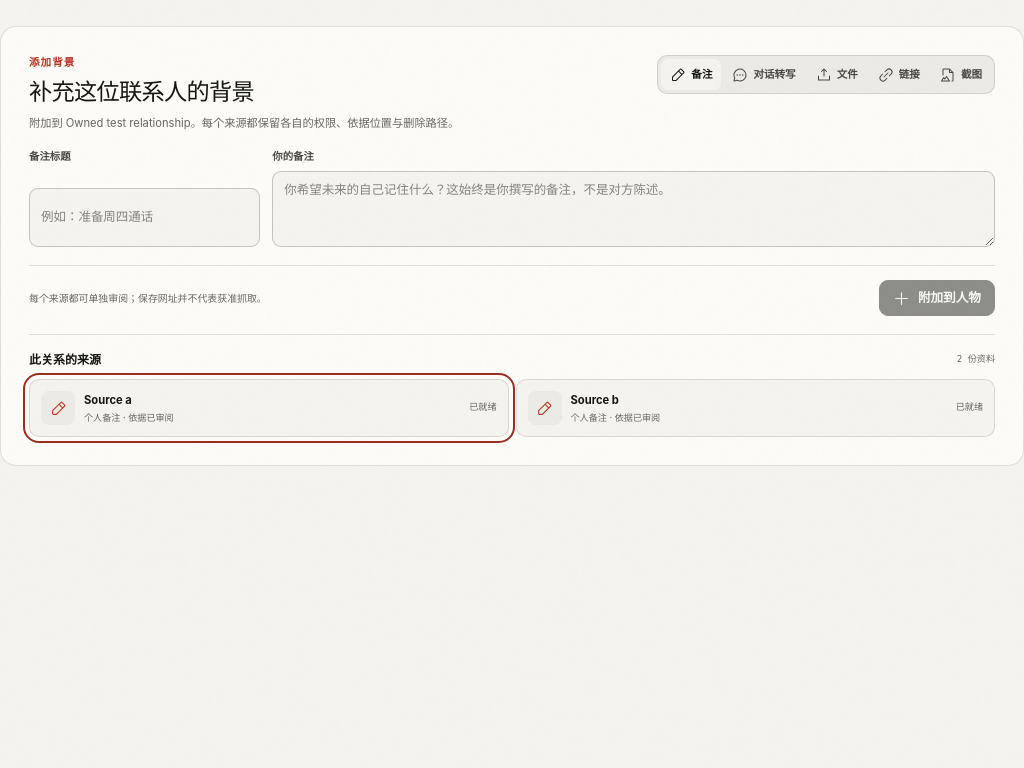
Test: keeps the user's new control focused when an earlier read completes
This screenshot has width=1024, height=768.
Click the button "Source a 个人备注 · 依据已审阅 已就绪" at (58, 408), box [29, 379, 508, 437]
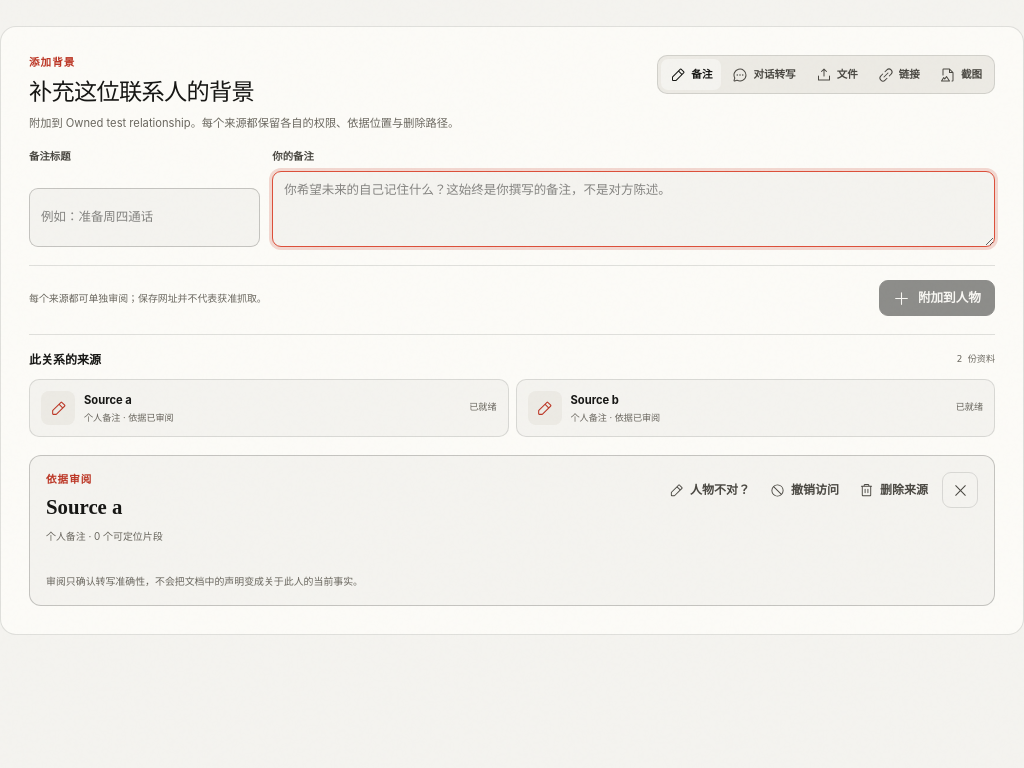
Now the heading "Source a" is shown, box [46, 495, 122, 518]
